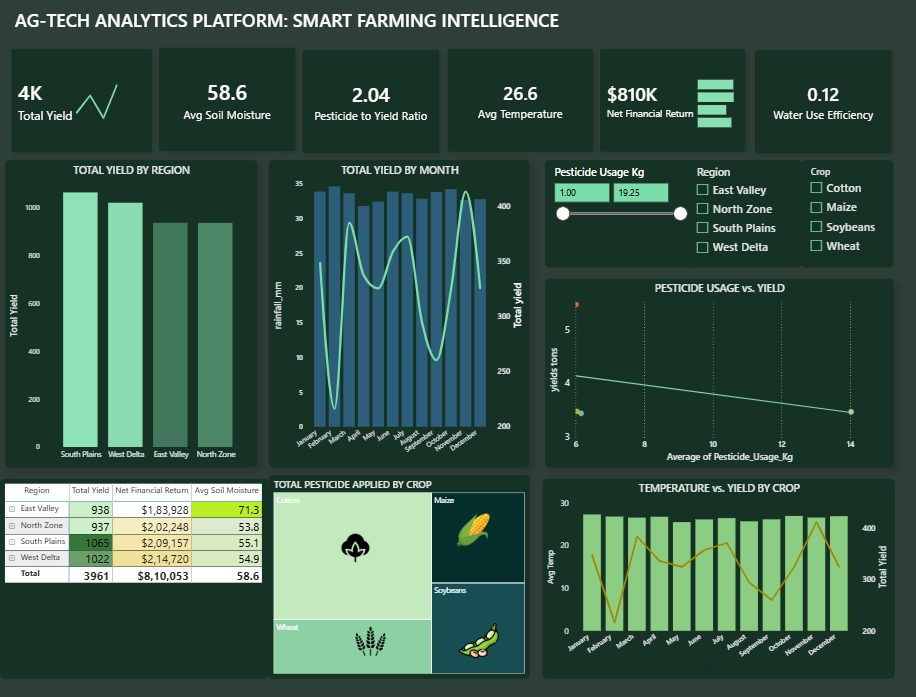

This screenshot's page, from the dashboard's own definition file:
{"tool":"powerbi","page":{"name":"AG-TECH ANALYSIS","canvas":[1650,1281],"ordinal":0},"visuals":[{"type":"slicer","fields":{"Values":["agtech_perfect_data.Crop"]},"box":[1433.9,283.9,164.3,191.1],"z":0},{"type":"slicer","fields":{"Values":["agtech_perfect_data.Region"]},"box":[1230.4,283.9,203.6,191.1],"z":1000},{"type":"cardVisual","fields":{"Data":["_All measures.Total Yield"]},"box":[0,57.1,308.9,242.9],"z":2000},{"type":"cardVisual","fields":{"Data":["_All measures.Avg Soil Moisture"]},"box":[262.9,55.4,301.8,242.9],"z":3000},{"type":"cardVisual","fields":{"Data":["_All measures.Avg Temperature"]},"box":[774.6,57.1,317.9,241.1],"z":4000},{"type":"cardVisual","fields":{"Data":["_All measures.Net Financial Return"]},"box":[1046.4,57.1,316.1,241.1],"z":5000},{"type":"cardVisual","fields":{"Data":["_All measures.Water Use Efficiency"]},"box":[1323.2,58.9,301.8,241.1],"z":6000},{"type":"clusteredColumnChart","title":"TOTAL YIELD BY REGION","fields":{"Category":["agtech_perfect_data.Region"],"Y":["_All measures.Total Yield"]},"box":[17.9,283.9,448.2,546.4],"z":7000},{"type":"lineClusteredColumnComboChart","title":"TOTAL YIELD BY MONTH","fields":{"Y":["Avg(agtech_perfect_data.Rainfall_mm)"],"Y2":["_All measures.Total Yield"],"Category":["agtech_perfect_data.Date.Variation.Date Hierarchy.Month"]},"box":[485.7,283.9,464.3,546.4],"z":8000},{"type":"scatterChart","title":"PESTICIDE USAGE vs. YIELD","fields":{"X":["Avg(agtech_perfect_data.Pesticide_Usage_Kg)"],"Y":["Avg(agtech_perfect_data.Yield_Tons)"],"Series":["agtech_perfect_data.Crop"]},"box":[978.6,494.6,619.6,335.7],"z":9000},{"type":"textbox","box":[17.9,8.9,1001.8,92.9],"z":10000},{"type":"pivotTable","fields":{"Rows":["agtech_perfect_data.Region","agtech_perfect_data.Crop","agtech_perfect_data.Region"],"Values":["_All measures.Total Yield","_All measures.Net Financial Return","_All measures.Avg Soil Moisture"]},"box":[8.9,851.1,477.8,355.6],"z":11000},{"type":"slicer","fields":{"Values":["agtech_perfect_data.Pesticide_Usage_Kg"]},"box":[978.6,283.9,266.1,191.1],"z":12000},{"type":"treemap","title":"TOTAL PESTICIDE APPLIED BY CROP","fields":{"Group":["agtech_perfect_data.Crop"],"Values":["_All measures.Total Pesticide Applied"]},"box":[486.7,844.4,464.4,362.2],"z":13000},{"type":"lineStackedColumnComboChart","title":"TEMPERATURE vs. YIELD BY CROP","fields":{"Category":["agtech_perfect_data.Date.Variation.Date Hierarchy.Month"],"Y":["Avg(agtech_perfect_data.Temperature_C)"],"Y2":["_All measures.Total Yield"]},"box":[973.2,851.8,626.8,355.4],"z":14000},{"type":"cardVisual","fields":{"Data":["_All measures.Pesticide to Yield Ratio"]},"box":[518.8,58.9,301.8,241.1],"z":15000},{"type":"lineChart","fields":{"Y":["_All measures.Total Yield"],"Category":["agtech_perfect_data.Date.Variation.Date Hierarchy.Quarter"]},"box":[132.1,123.2,100,105.4],"z":16000},{"type":"barChart","fields":{"Y":["_All measures.Net Financial Return"],"Category":["agtech_perfect_data.Date.Variation.Date Hierarchy.Quarter"]},"box":[1244.6,128.6,98.2,103.6],"z":17000},{"type":"image","box":[640,1100,55.6,80],"z":18000},{"type":"image","box":[610.7,948.2,58.9,50],"z":19000},{"type":"image","box":[825,1098.2,71.4,82.1],"z":20000},{"type":"image","box":[803.6,910.7,91.1,62.5],"z":21000}]}

Visuals, with their boxes in screenshot pixels (x1, y1, x2, y2), scaled from the page's 1650x1281 canvas onto the 916x697 screenshot:
slicer - agtech_perfect_data.Crop: {"left": 796, "top": 154, "right": 887, "bottom": 258}
slicer - agtech_perfect_data.Region: {"left": 683, "top": 154, "right": 796, "bottom": 258}
cardVisual - _All measures.Total Yield: {"left": 0, "top": 31, "right": 171, "bottom": 163}
cardVisual - _All measures.Avg Soil Moisture: {"left": 146, "top": 30, "right": 313, "bottom": 162}
cardVisual - _All measures.Avg Temperature: {"left": 430, "top": 31, "right": 607, "bottom": 162}
cardVisual - _All measures.Net Financial Return: {"left": 581, "top": 31, "right": 756, "bottom": 162}
cardVisual - _All measures.Water Use Efficiency: {"left": 735, "top": 32, "right": 902, "bottom": 163}
"TOTAL YIELD BY REGION" clusteredColumnChart: {"left": 10, "top": 154, "right": 259, "bottom": 452}
"TOTAL YIELD BY MONTH" lineClusteredColumnComboChart: {"left": 270, "top": 154, "right": 527, "bottom": 452}
"PESTICIDE USAGE vs. YIELD" scatterChart: {"left": 543, "top": 269, "right": 887, "bottom": 452}
textbox: {"left": 10, "top": 5, "right": 566, "bottom": 55}
pivotTable - agtech_perfect_data.Region x agtech_perfect_data.Crop: {"left": 5, "top": 463, "right": 270, "bottom": 657}
slicer - agtech_perfect_data.Pesticide_Usage_Kg: {"left": 543, "top": 154, "right": 691, "bottom": 258}
"TOTAL PESTICIDE APPLIED BY CROP" treemap: {"left": 270, "top": 459, "right": 528, "bottom": 657}
"TEMPERATURE vs. YIELD BY CROP" lineStackedColumnComboChart: {"left": 540, "top": 463, "right": 888, "bottom": 657}
cardVisual - _All measures.Pesticide to Yield Ratio: {"left": 288, "top": 32, "right": 456, "bottom": 163}
lineChart - _All measures.Total Yield x agtech_perfect_data.Date.Variation.Date Hierarchy.Quarter: {"left": 73, "top": 67, "right": 129, "bottom": 124}
barChart - _All measures.Net Financial Return x agtech_perfect_data.Date.Variation.Date Hierarchy.Quarter: {"left": 691, "top": 70, "right": 745, "bottom": 126}
image: {"left": 355, "top": 599, "right": 386, "bottom": 642}
image: {"left": 339, "top": 516, "right": 372, "bottom": 543}
image: {"left": 458, "top": 598, "right": 498, "bottom": 642}
image: {"left": 446, "top": 496, "right": 497, "bottom": 530}
